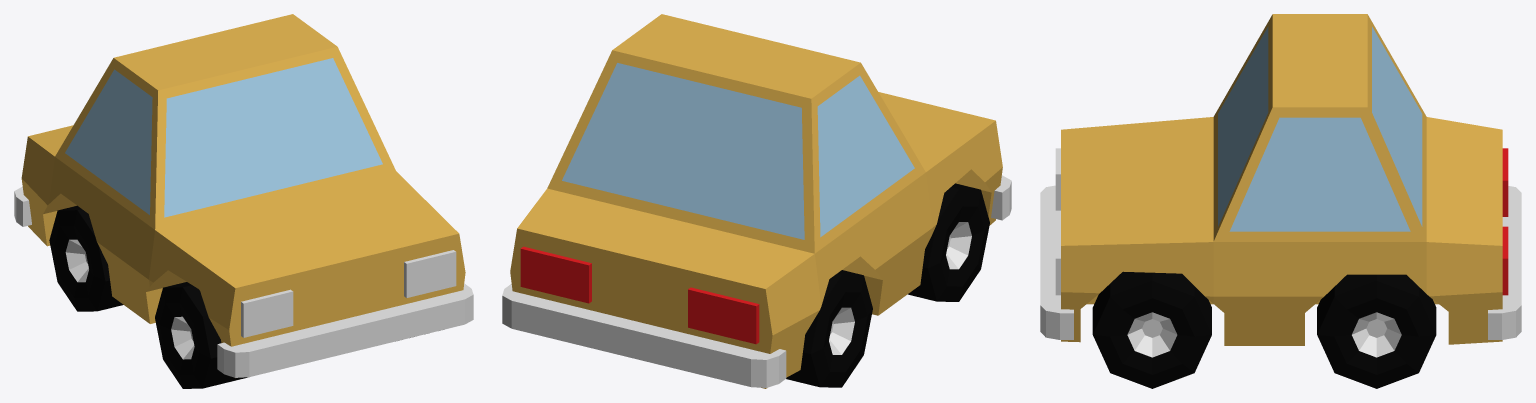
Rendered from car.fbx.
The picture shows the model from 3 angles, left to right: view 1: azimuth 30°, elevation 25°; view 2: azimuth 150°, elevation 25°; view 3: azimuth 270°, elevation 25°; orthographic projection. The views are drawn at different scales.
Parts seen in each view (by area): view 1: Body, BumperFront, WheelFrontRight, WheelRearRight, HeadLight, BumperRear; view 2: Body, BumperRear, WheelRearRight, WheelFrontRight, BrakeLight, BumperFront; view 3: Body, WheelFrontLeft, WheelRearLeft, BumperFront, BumperRear, BrakeLight, HeadLight.
Part boxes in pixels (bbox=[...]): Body: bbox=[21, 14, 465, 346]; BumperFront: bbox=[217, 284, 473, 377]; WheelFrontRight: bbox=[155, 282, 247, 388]; WheelRearRight: bbox=[49, 205, 123, 311]; HeadLight: bbox=[241, 250, 456, 337]; BumperRear: bbox=[14, 186, 31, 226]; Body: bbox=[510, 14, 1002, 388]; BumperRear: bbox=[502, 284, 786, 387]; WheelRearRight: bbox=[786, 270, 872, 387]; WheelFrontRight: bbox=[908, 183, 989, 301]; BrakeLight: bbox=[520, 246, 759, 344]; BumperFront: bbox=[991, 175, 1011, 220]; Body: bbox=[1061, 14, 1502, 345]; WheelFrontLeft: bbox=[1092, 271, 1211, 388]; WheelRearLeft: bbox=[1317, 274, 1436, 388]; BumperFront: bbox=[1040, 185, 1073, 339]; BumperRear: bbox=[1488, 186, 1521, 339]; BrakeLight: bbox=[1502, 148, 1508, 295]; HeadLight: bbox=[1055, 148, 1060, 295].
Size of the model in its own units: 148 by 139 by 229.
